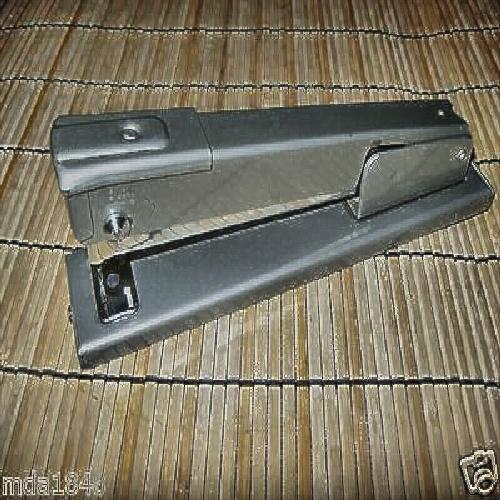stapler: (54, 94, 476, 350)
